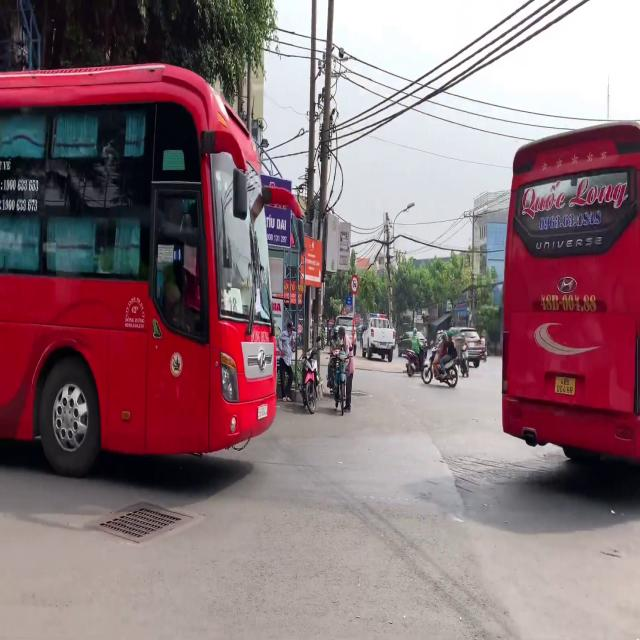bien_vang: (554, 373, 578, 400)
